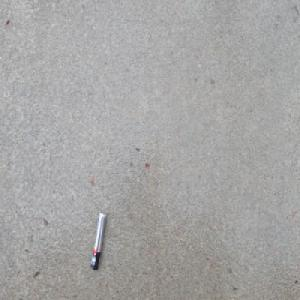Battery: (90, 209, 107, 272)
